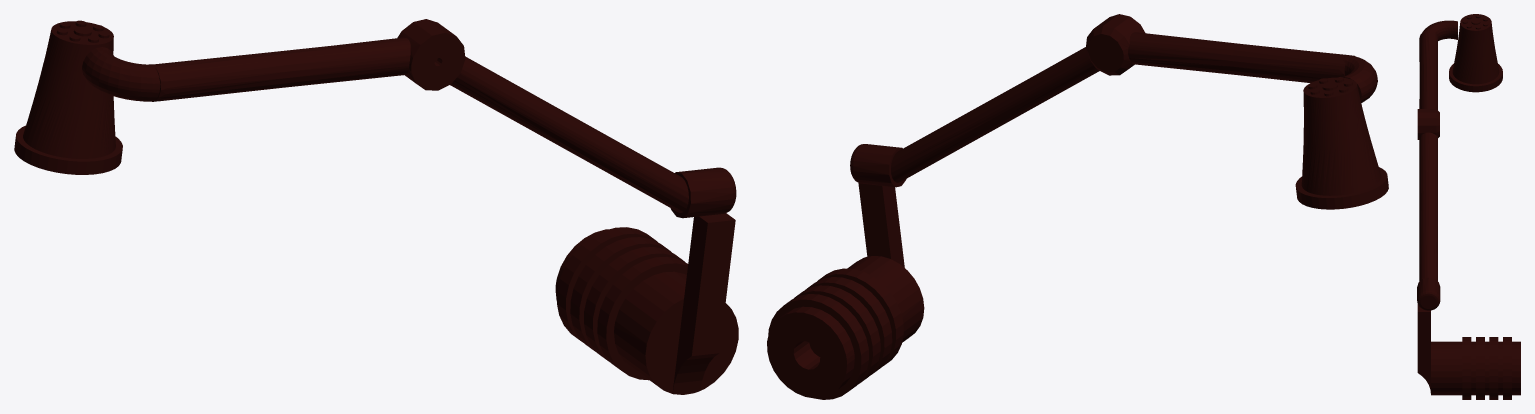
The model's file is Mars6Mars_Rover__Curiosity_1_0__-_29_Wheel_Connector_2-2.001.dae.
3 renders of one model, left to right at view 1: azimuth 30°, elevation 25°; view 2: azimuth 150°, elevation 25°; view 3: azimuth 270°, elevation 25°, orthographic. The views are drawn at different scales.
Visible parts, largest first — view 1: tmp_export_Mars6Mars_Rover__Curiosity_1_0__-_29_Wheel_Connec; view 2: tmp_export_Mars6Mars_Rover__Curiosity_1_0__-_29_Wheel_Connec; view 3: tmp_export_Mars6Mars_Rover__Curiosity_1_0__-_29_Wheel_Connec.
Boxes of the visible parts, x1=… form: tmp_export_Mars6Mars_Rover__Curiosity_1_0__-_29_Wheel_Connec: x1=14, y1=19, x2=738, y2=394; tmp_export_Mars6Mars_Rover__Curiosity_1_0__-_29_Wheel_Connec: x1=767, y1=14, x2=1388, y2=399; tmp_export_Mars6Mars_Rover__Curiosity_1_0__-_29_Wheel_Connec: x1=1417, y1=14, x2=1520, y2=399.
Size of the model in its own units: 0.3063 by 0.081 by 0.2063.
